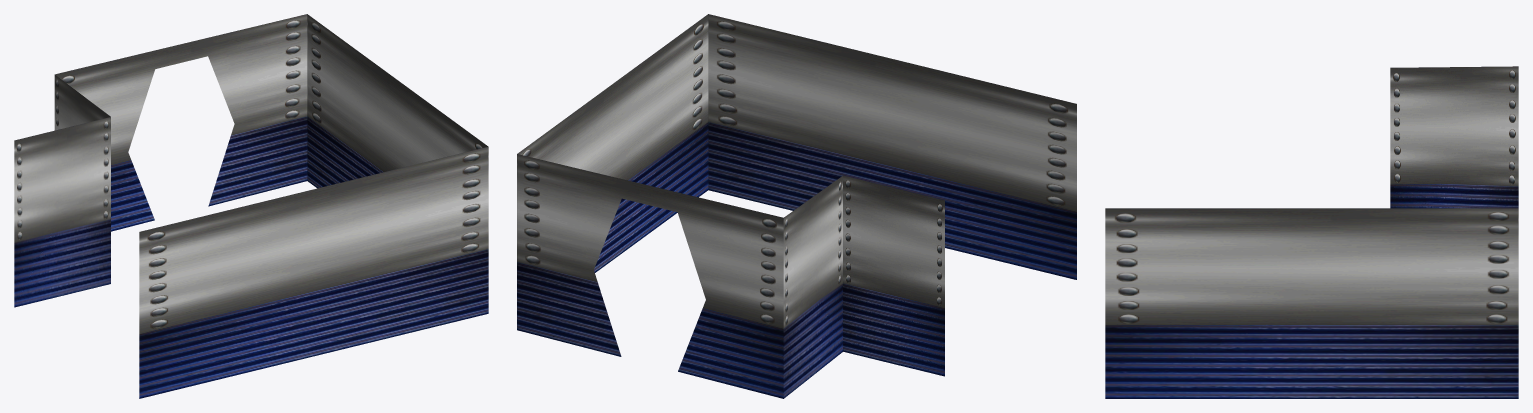
The model's file is Ministerium_Aula2_2516.glb.
3 renders of one model, left to right at view 1: azimuth 30°, elevation 25°; view 2: azimuth 150°, elevation 25°; view 3: azimuth 270°, elevation 25°, orthographic. The views are drawn at different scales.
Visible parts, largest first — view 1: pPlaneShape184, pPlaneShape186, pPlaneShape188, pPlaneShape185, pPlaneShape187; view 2: pPlaneShape184, pPlaneShape186, pPlaneShape185, pPlaneShape188, pPlaneShape187; view 3: pPlaneShape185, pPlaneShape187.
Part boxes in pixels (x1,y1,x2,y2): pPlaneShape184: (139, 146, 488, 398); pPlaneShape186: (55, 14, 307, 231); pPlaneShape188: (14, 117, 110, 307); pPlaneShape185: (307, 14, 487, 188); pPlaneShape187: (54, 75, 110, 130); pPlaneShape184: (708, 14, 1076, 279); pPlaneShape186: (517, 154, 783, 398); pPlaneShape185: (517, 14, 708, 272); pPlaneShape188: (843, 175, 944, 376); pPlaneShape187: (783, 176, 842, 398); pPlaneShape185: (1105, 208, 1518, 398); pPlaneShape187: (1390, 66, 1518, 208).
Bounding box in the file's own units: 0.856 × 0.4023 × 0.7694.
Materials: 5 (5 with a texture image).
